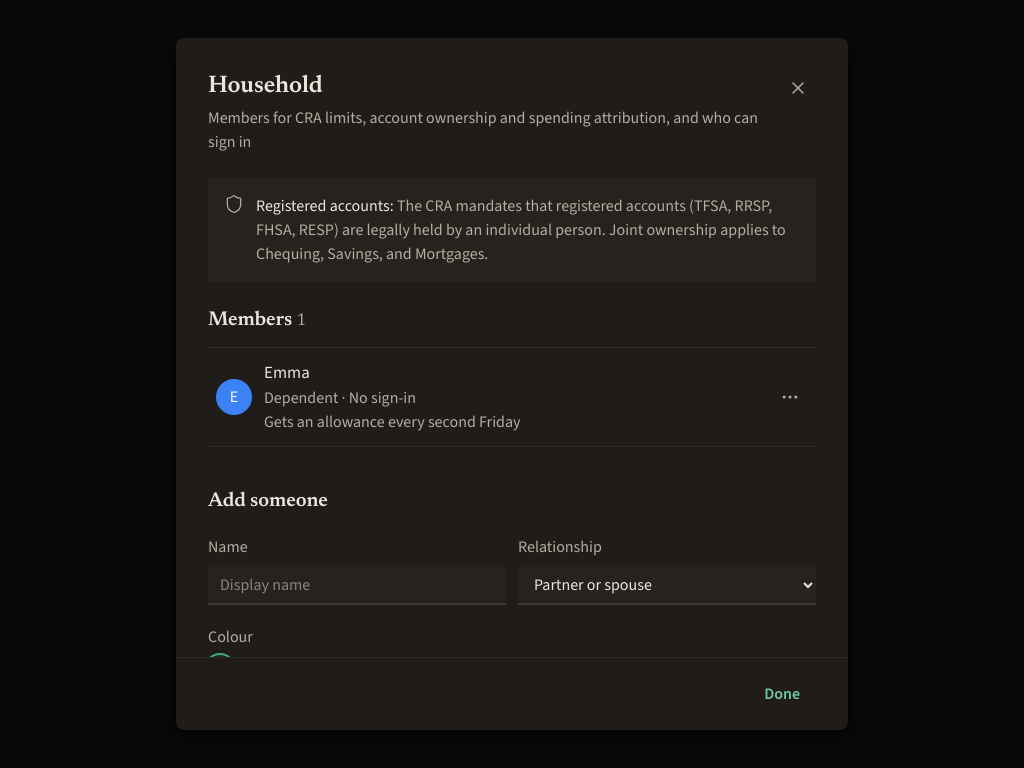
Test: HouseholdModal on a phone › puts Invite, Edit and Delete in the member's sheet and shows notes in full
Expected: the text "Gets an allowance every second Friday" is shown, [264,410,520,434]
Click the button named "Emma: actions". click: (790, 397)
box: [772,379,808,415]
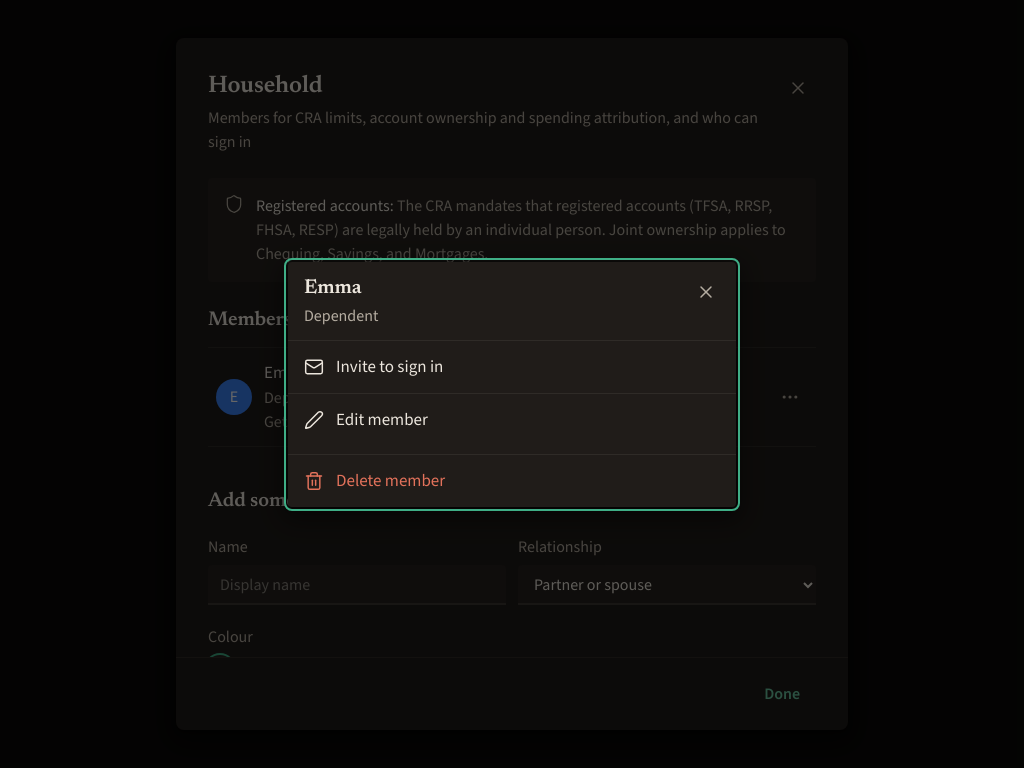
Click the button "Edit member". click: (382, 419)
box: [288,394,736,446]
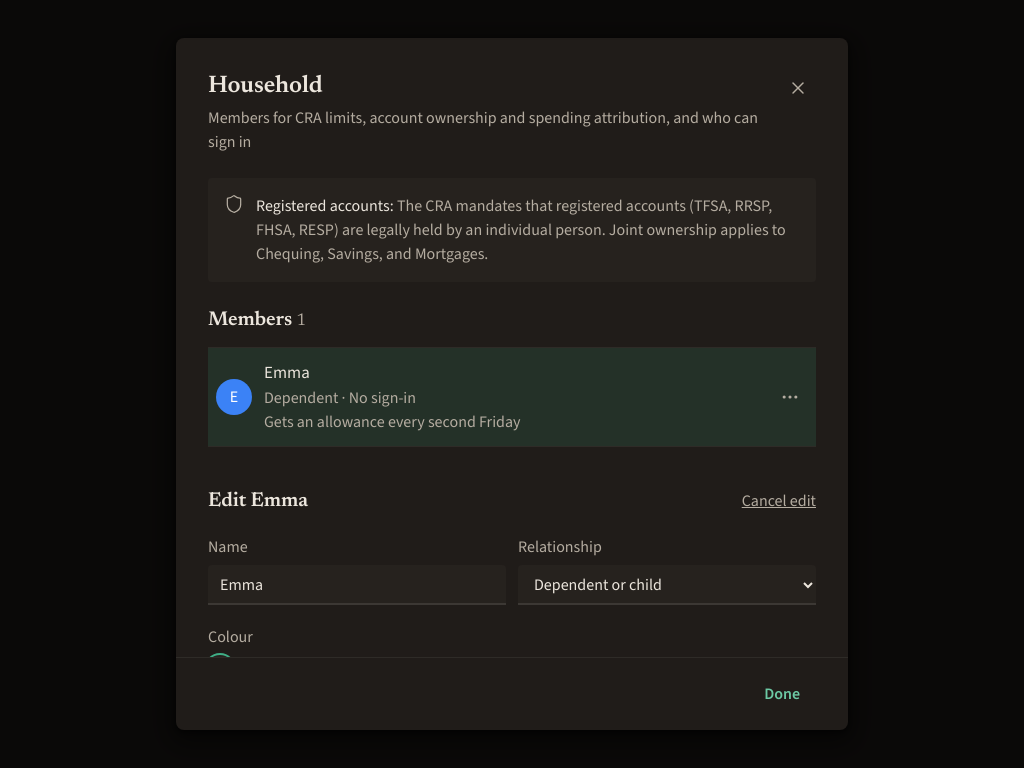
Expected: the field labelled "Name" holds "Emma", [208,565,506,605]
